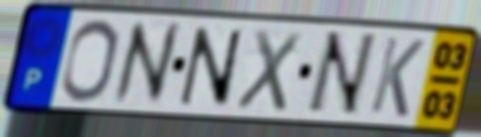K: (366, 34, 428, 121)
N: (300, 29, 380, 118), (109, 19, 183, 108), (177, 24, 245, 110)
O: (58, 17, 121, 105)
X: (232, 25, 305, 115)
